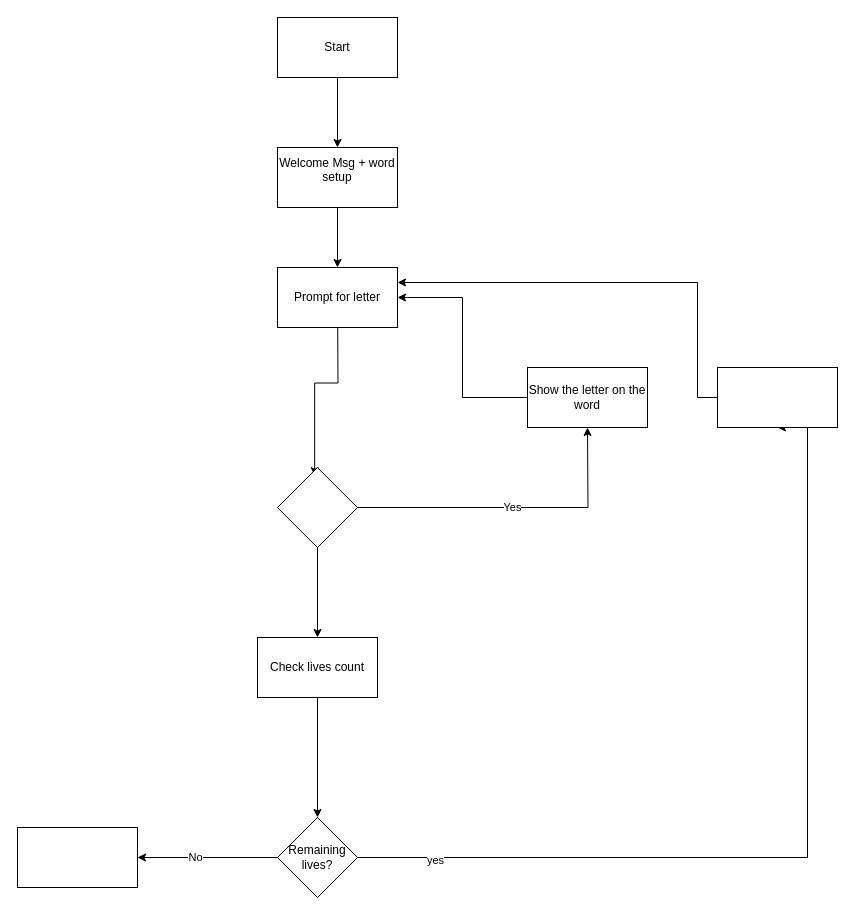
This 855x915 diagram has some shape labels left out. The centre of each missing label's shape, as x and y in pixels:
"game over" belongs at (x=77, y=857).
"Good letter?" belongs at (x=317, y=507).
"minus life. ; change figure" belongs at (x=777, y=397).
